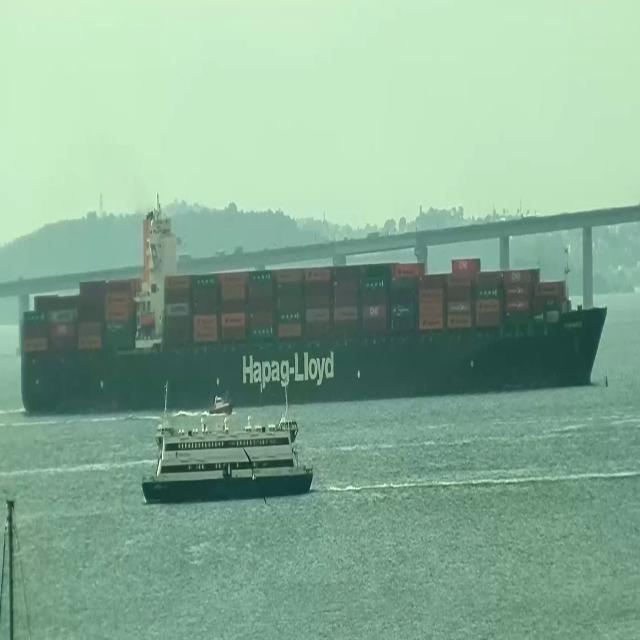Cargo: (21, 204, 606, 412)
Passenger: (141, 389, 312, 504), (164, 382, 167, 419)
